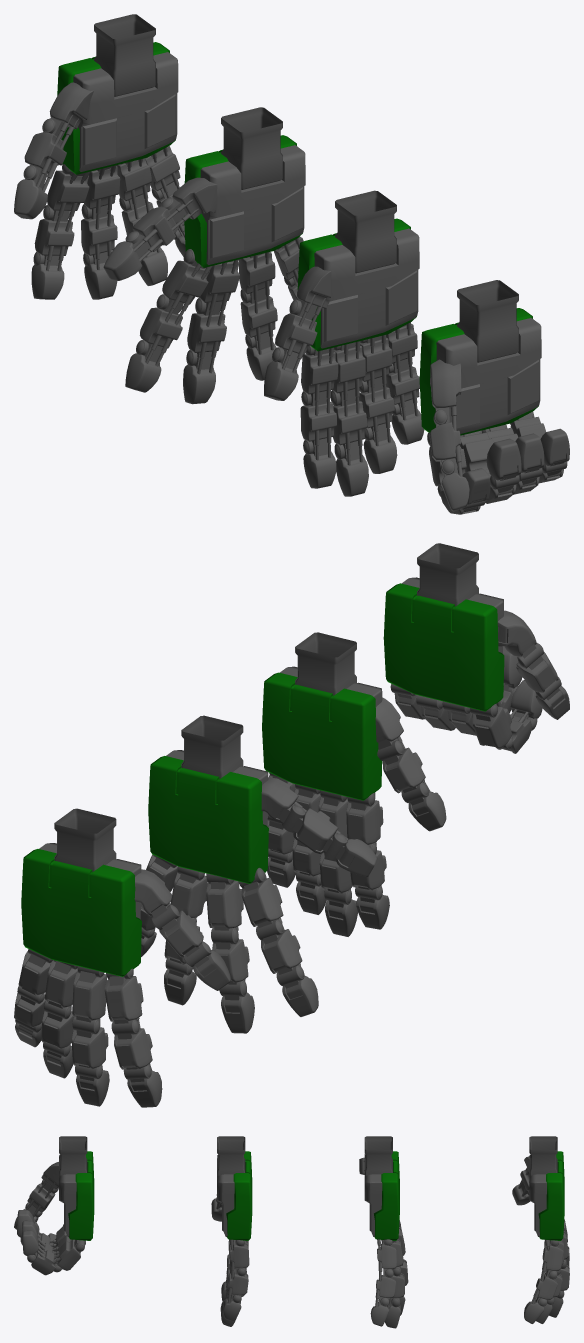
The model's file is Cardigan Hands.fbx.
3 renders of one model, top to bottom at view 1: azimuth 30°, elevation 25°; view 2: azimuth 150°, elevation 25°; view 3: azimuth 270°, elevation 25°, orthographic. The views are drawn at different scales.
Parts seen in each view (by area): view 1: polySurface350, polySurface347, polySurface352, polySurface344, polySurface354, polySurface346, polySurface349, polySurface345, polySurface343, polySurface351, polySurface353, polySurface348 (+48 smaller); view 2: polySurface343, polySurface353, polySurface351, polySurface348, polySurface345, polySurface346, polySurface349, polySurface354, polySurface105, polySurface171, polySurface56, polySurface126 (+33 smaller); view 3: polySurface348, polySurface343, polySurface353, polySurface351, polySurface354, polySurface346, polySurface345, polySurface349, polySurface350, polySurface352, polySurface347, polySurface344 (+16 smaller).
Boxes of the visible parts, bbox=[...] form: polySurface350: bbox=[200, 145, 305, 264]; polySurface347: bbox=[314, 228, 419, 348]; polySurface352: bbox=[73, 52, 178, 171]; polySurface344: bbox=[436, 318, 541, 433]; polySurface354: bbox=[94, 14, 155, 96]; polySurface346: bbox=[335, 190, 396, 273]; polySurface349: bbox=[221, 107, 282, 189]; polySurface345: bbox=[457, 280, 518, 362]; polySurface343: bbox=[419, 308, 538, 435]; polySurface351: bbox=[184, 135, 302, 267]; polySurface353: bbox=[57, 42, 175, 174]; polySurface348: bbox=[297, 218, 416, 351]; polySurface343: bbox=[383, 583, 504, 711]; polySurface353: bbox=[21, 849, 141, 976]; polySurface351: bbox=[148, 756, 268, 883]; polySurface348: bbox=[262, 672, 382, 800]; polySurface345: bbox=[417, 543, 478, 606]; polySurface346: bbox=[295, 632, 356, 695]; polySurface349: bbox=[181, 715, 243, 778]; polySurface354: bbox=[54, 808, 116, 871]; polySurface105: bbox=[206, 880, 243, 928]; polySurface171: bbox=[104, 976, 143, 1021]; polySurface56: bbox=[241, 877, 283, 926]; polySurface126: bbox=[72, 972, 106, 1020]; polySurface348: bbox=[226, 1151, 252, 1240]; polySurface343: bbox=[68, 1151, 94, 1240]; polySurface353: bbox=[538, 1151, 564, 1240]; polySurface351: bbox=[374, 1151, 399, 1240]; polySurface354: bbox=[529, 1136, 557, 1179]; polySurface346: bbox=[217, 1136, 245, 1179]; polySurface345: bbox=[59, 1136, 87, 1177]; polySurface349: bbox=[364, 1136, 392, 1176]; polySurface350: bbox=[364, 1154, 382, 1236]; polySurface352: bbox=[529, 1155, 546, 1236]; polySurface347: bbox=[217, 1155, 234, 1236]; polySurface344: bbox=[59, 1155, 76, 1236].
Size of the model in its own units: 78.31 by 89.16 by 241.
